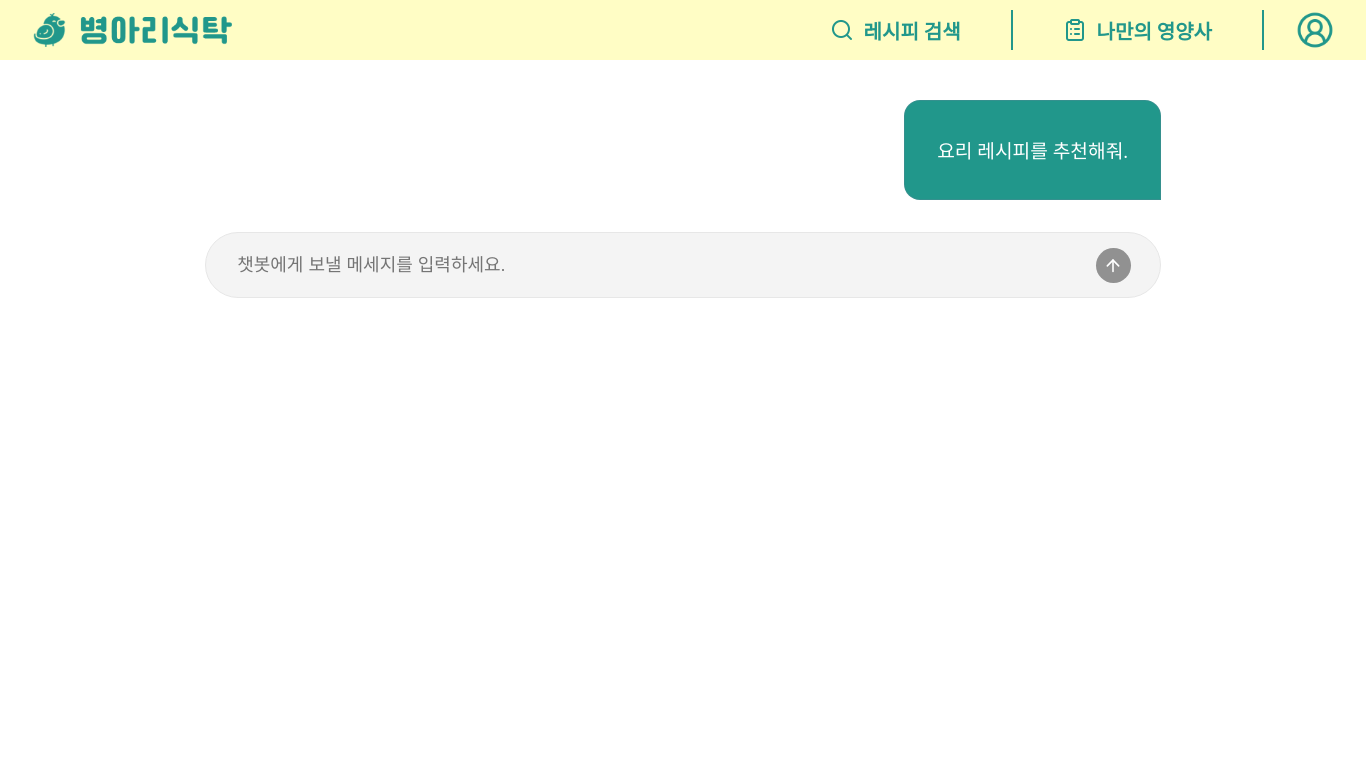
Test: 챗봇 › 답변을 저장하면 저장한 레시피 목록에 추가된다
The image size is (1366, 768).
Type "두부 요리 추천해줘" into the field with placeholder "챗봇에게 보낼 메세지를 입력하세요." at (652, 265), box top-left (235, 240), bottom-right (1069, 290)
Then press Enter
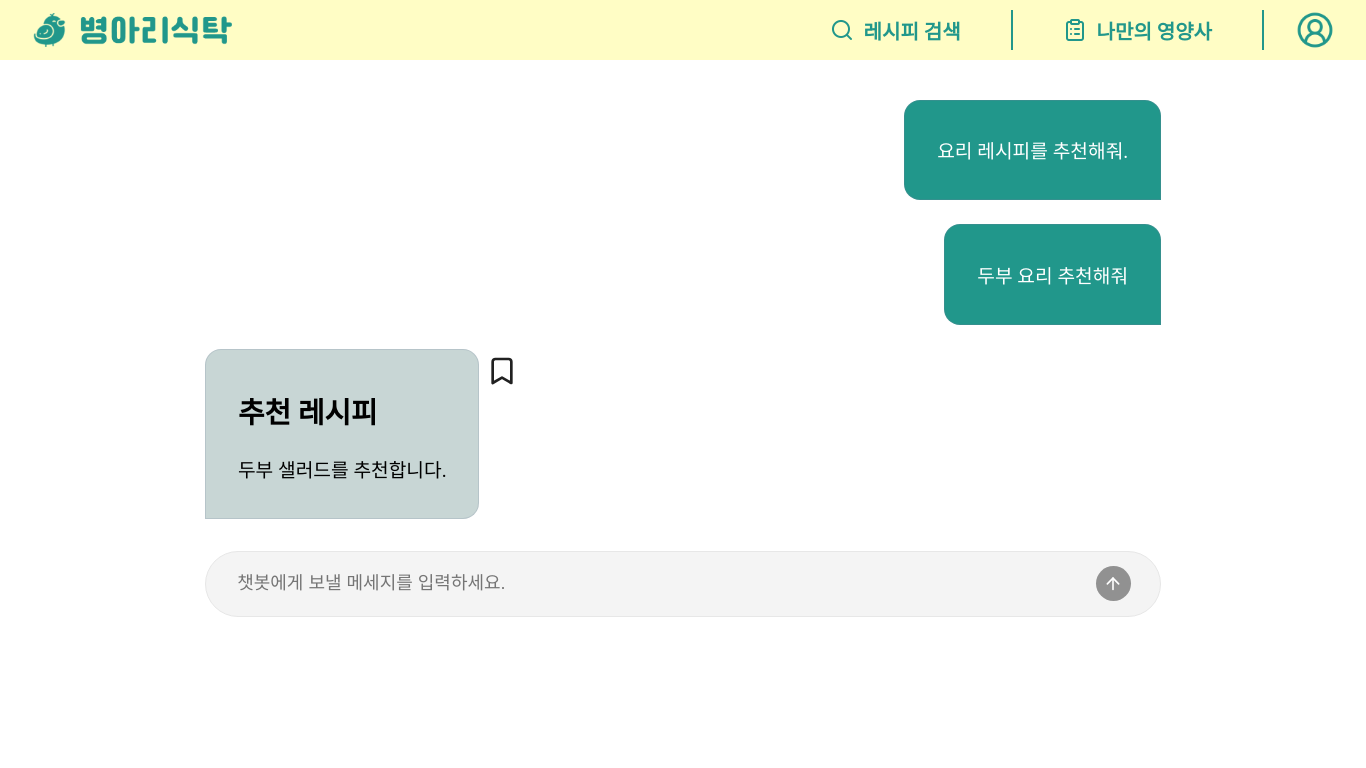
Click the picture with alt text "저장 버튼" at (502, 371), box top-left (486, 355), bottom-right (518, 387)
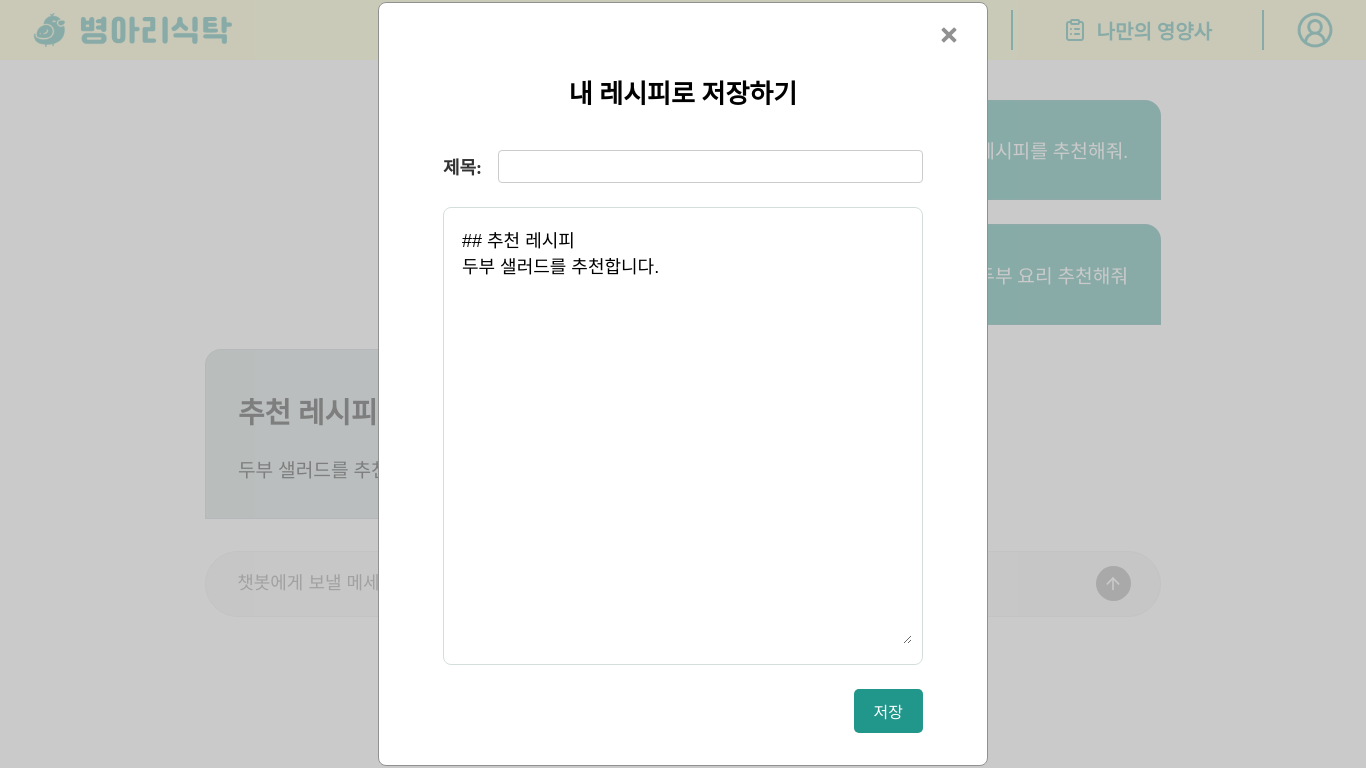
Type "챗봇 추천 두부 샐러드" into the field at (711, 166), box top-left (498, 150), bottom-right (923, 183)
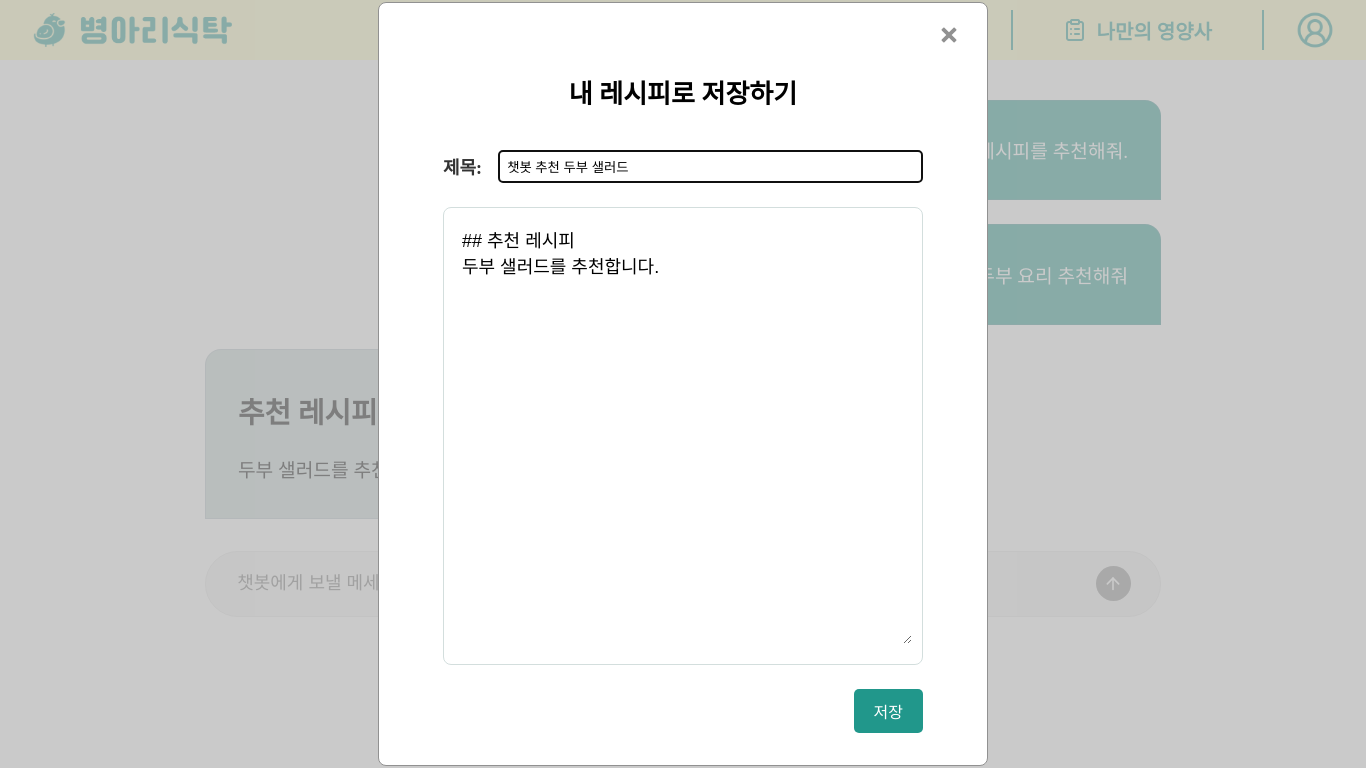
Click the button "저장" at (888, 711), box top-left (854, 689), bottom-right (923, 733)
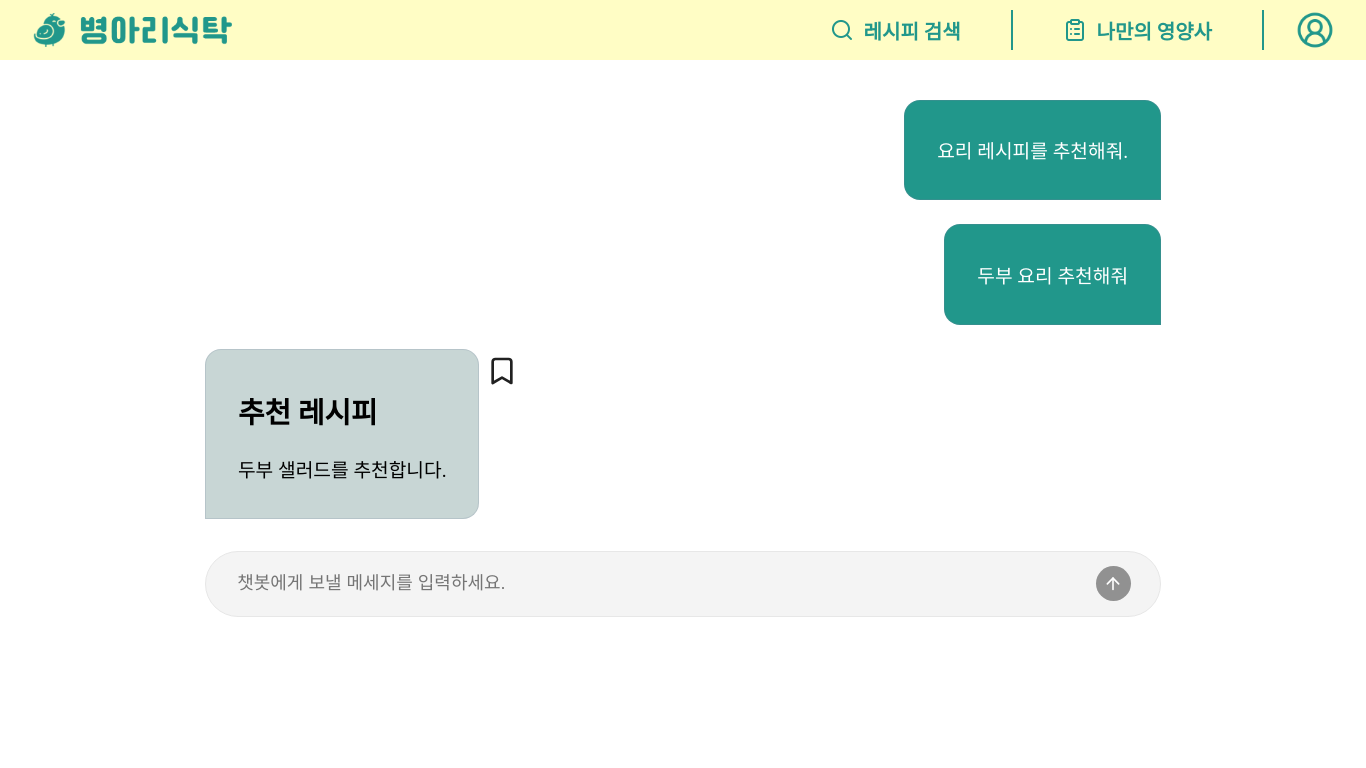
Click the picture with alt text "Dropdown" at (1315, 30), box top-left (1296, 11), bottom-right (1334, 49)
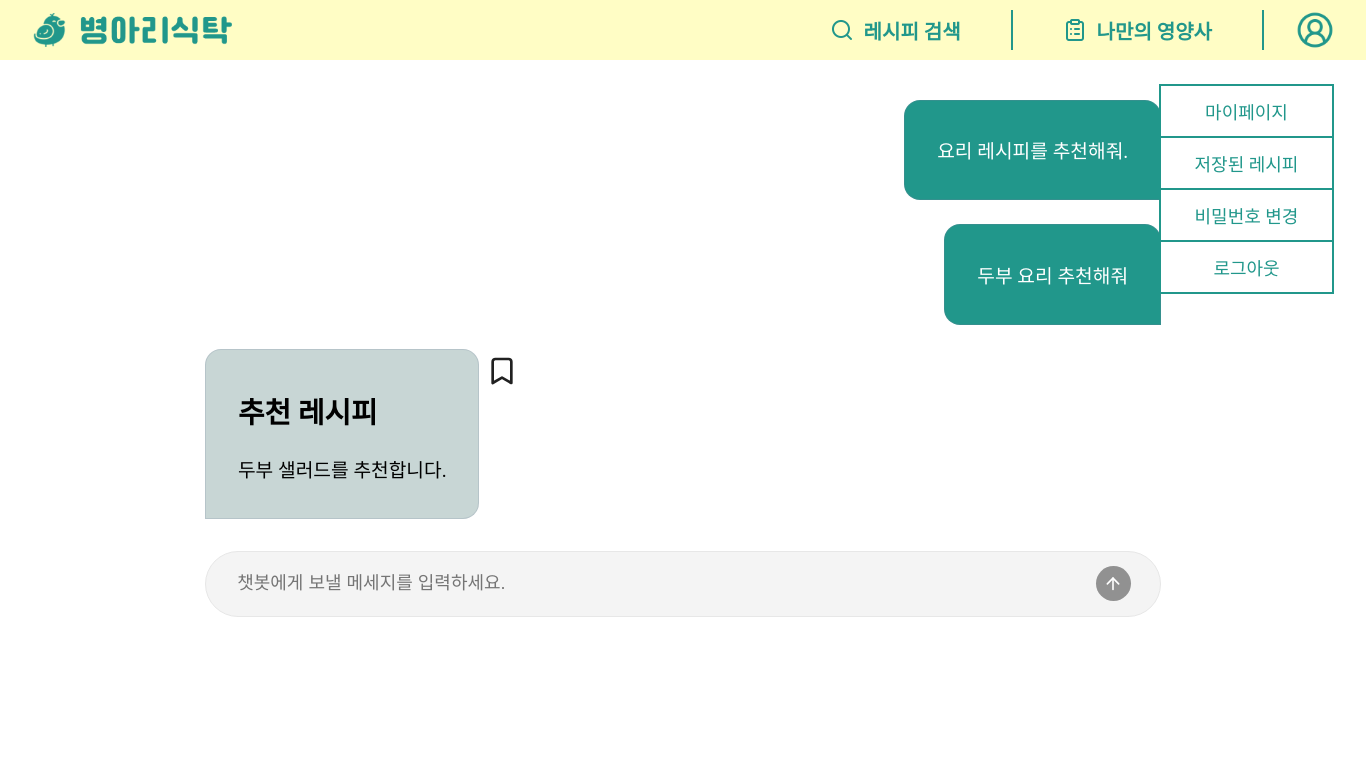
Click the link "저장된 레시피" at (1247, 165), box top-left (1195, 155), bottom-right (1298, 175)
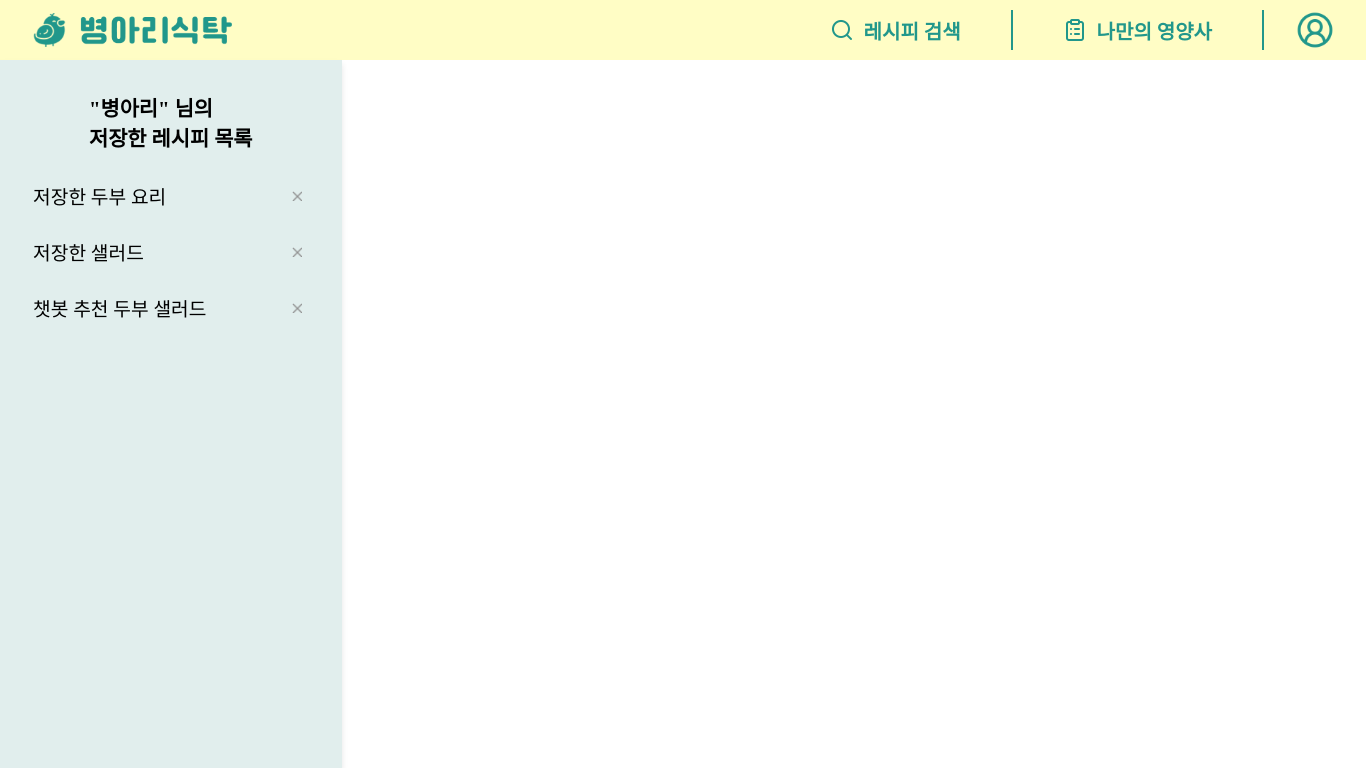
expect the text "챗봇 추천 두부 샐러드" is shown: met, box top-left (33, 294), bottom-right (206, 322)
